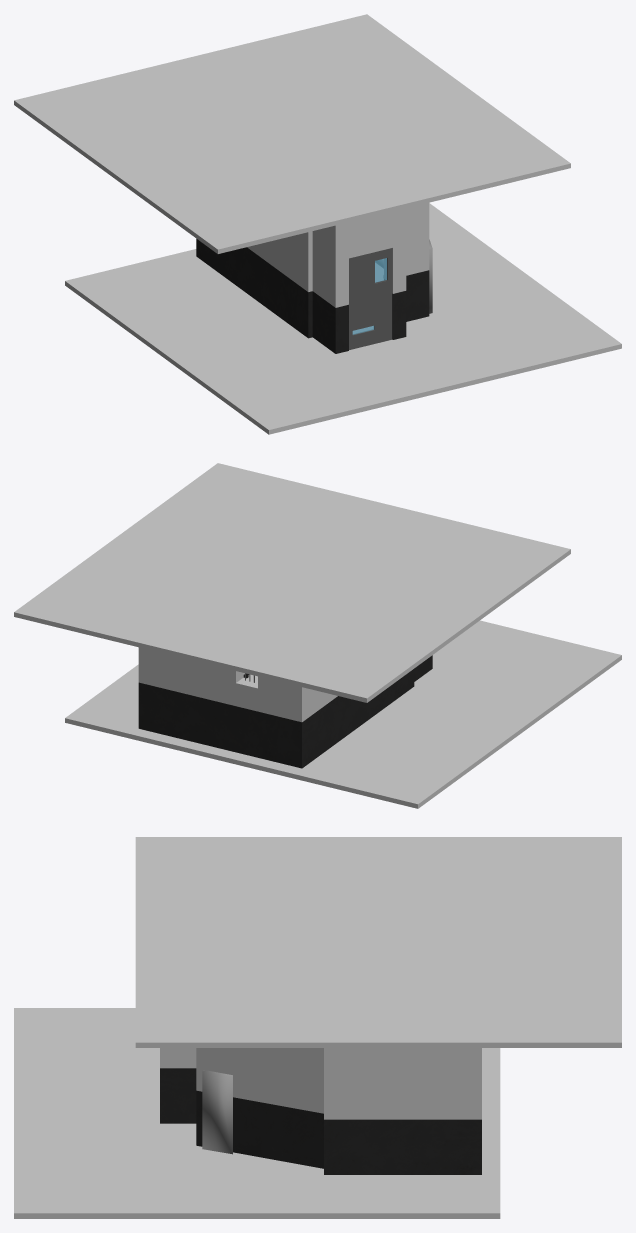
The model's file is Cell.fbx.
3 renders of one model, top to bottom at view 1: azimuth 30°, elevation 25°; view 2: azimuth 150°, elevation 25°; view 3: azimuth 270°, elevation 25°, orthographic. The views are drawn at different scales.
Visible parts, largest first — view 1: Cell_Ceiling, Cell_Floor, Cell_wall, Door; view 2: Cell_Ceiling, Cell_Floor, Cell_wall; view 3: Cell_Ceiling, Cell_Floor, Cell_wall, Sink.
Part boxes in pixels (box(x1,y1,x2,y2)): Cell_Ceiling: box(14, 14, 570, 253); Cell_Floor: box(65, 203, 621, 434); Cell_wall: box(196, 203, 429, 353); Door: box(349, 248, 392, 349); Cell_Ceiling: box(14, 463, 570, 702); Cell_Floor: box(65, 620, 621, 808); Cell_wall: box(138, 647, 432, 768); Cell_Ceiling: box(135, 837, 621, 1047); Cell_Floor: box(14, 1008, 500, 1218); Cell_wall: box(160, 1048, 481, 1174); Sink: box(202, 1069, 232, 1154).
Size of the model in its own units: 800 by 320 by 1000.
